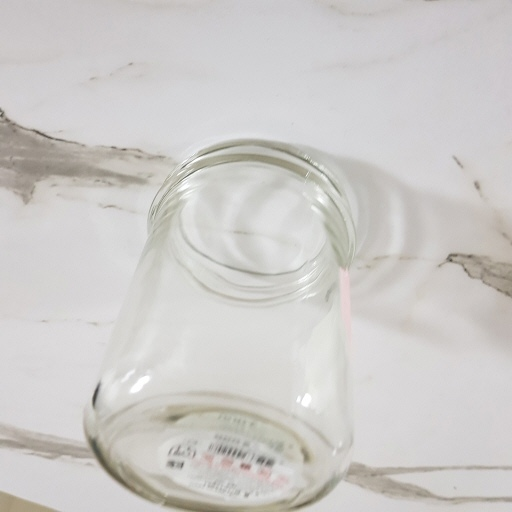Glass_5: (86, 149, 363, 501)
